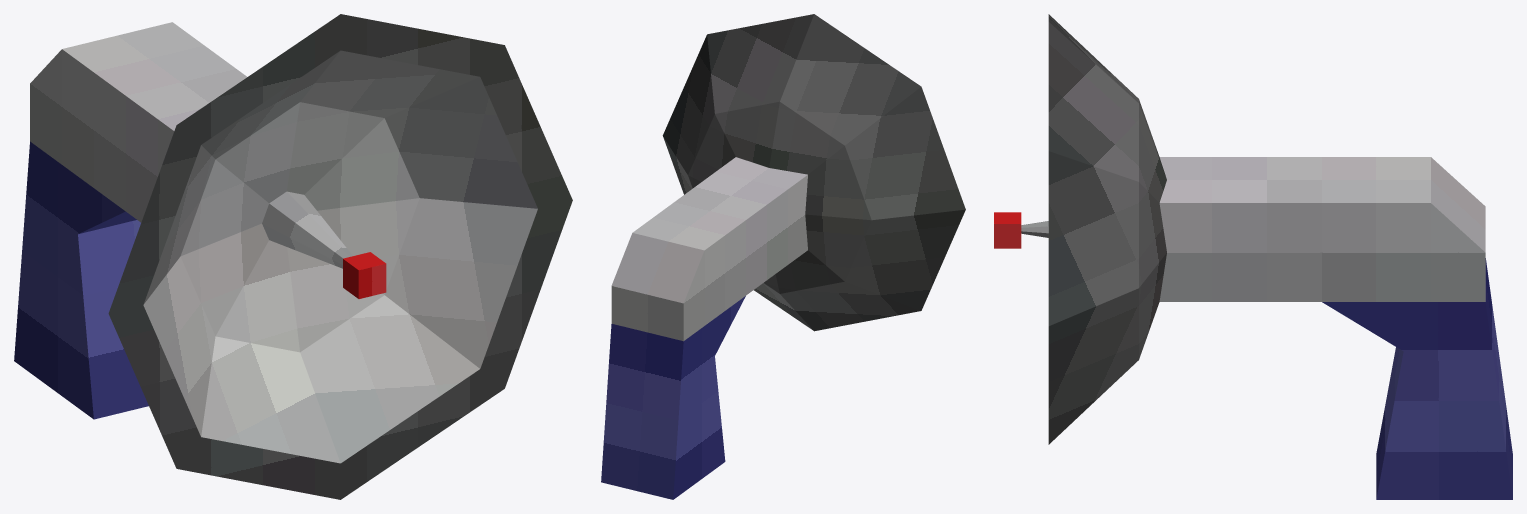
The model's file is EMP.obj.
The picture shows the model from 3 angles, left to right: view 1: azimuth 30°, elevation 25°; view 2: azimuth 150°, elevation 25°; view 3: azimuth 270°, elevation 25°; orthographic projection. The views are drawn at different scales.
Parts seen in each view (by area): view 1: group_4, ID34, group_3, group_5, group_1, group_2; view 2: ID34, group_5, group_3; view 3: group_5, ID34, group_3, group_2.
Boxes of the visible parts, x1,y1,x2,y2 form: group_4: (143,50,537,463); ID34: (108,14,572,499); group_3: (14,141,148,419); group_5: (30,22,246,222); group_1: (262,191,352,268); group_2: (343,252,386,298); ID34: (662,14,965,331); group_5: (611,157,807,341); group_3: (601,296,745,499); group_5: (1159,157,1485,301); ID34: (1048,14,1166,444); group_3: (1322,258,1512,499); group_2: (994,212,1021,248).
Size of the model in its own units: 0.525 by 0.575 by 0.5938.
